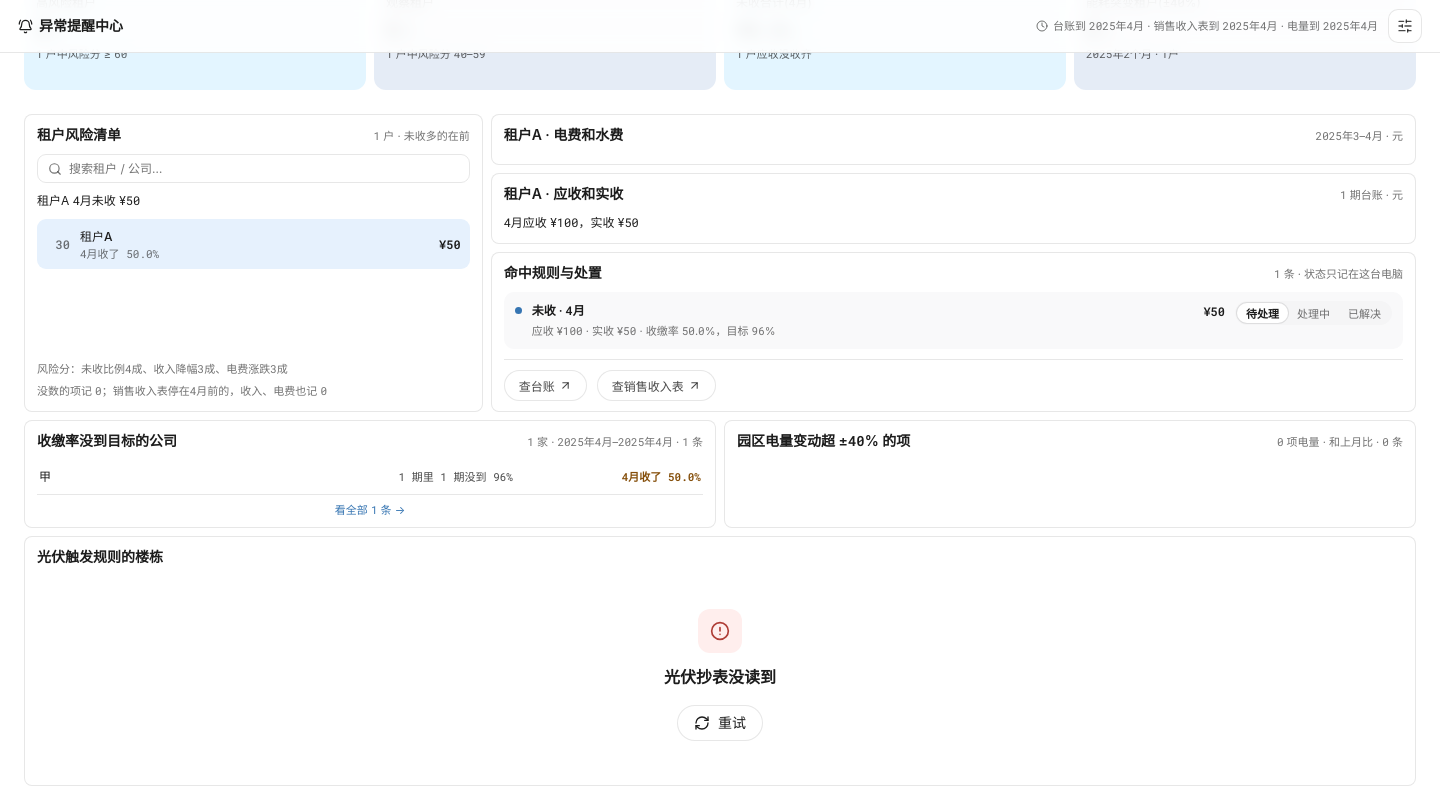
Test case: 异常提醒中心 · 光伏触发规则的楼栋 › ❗光伏没读到:只这张卡换成失败(租户清单照出),点重试回来
The image size is (1440, 804).
Expected: the button with class "mn-row" is shown, [37,219,470,269]
Expected: the element with class "av2-card" shows "光伏抄表没读到", [664,666,776,686]
Click the button "重试".
click(720, 722)  # box [677,704,763,740]
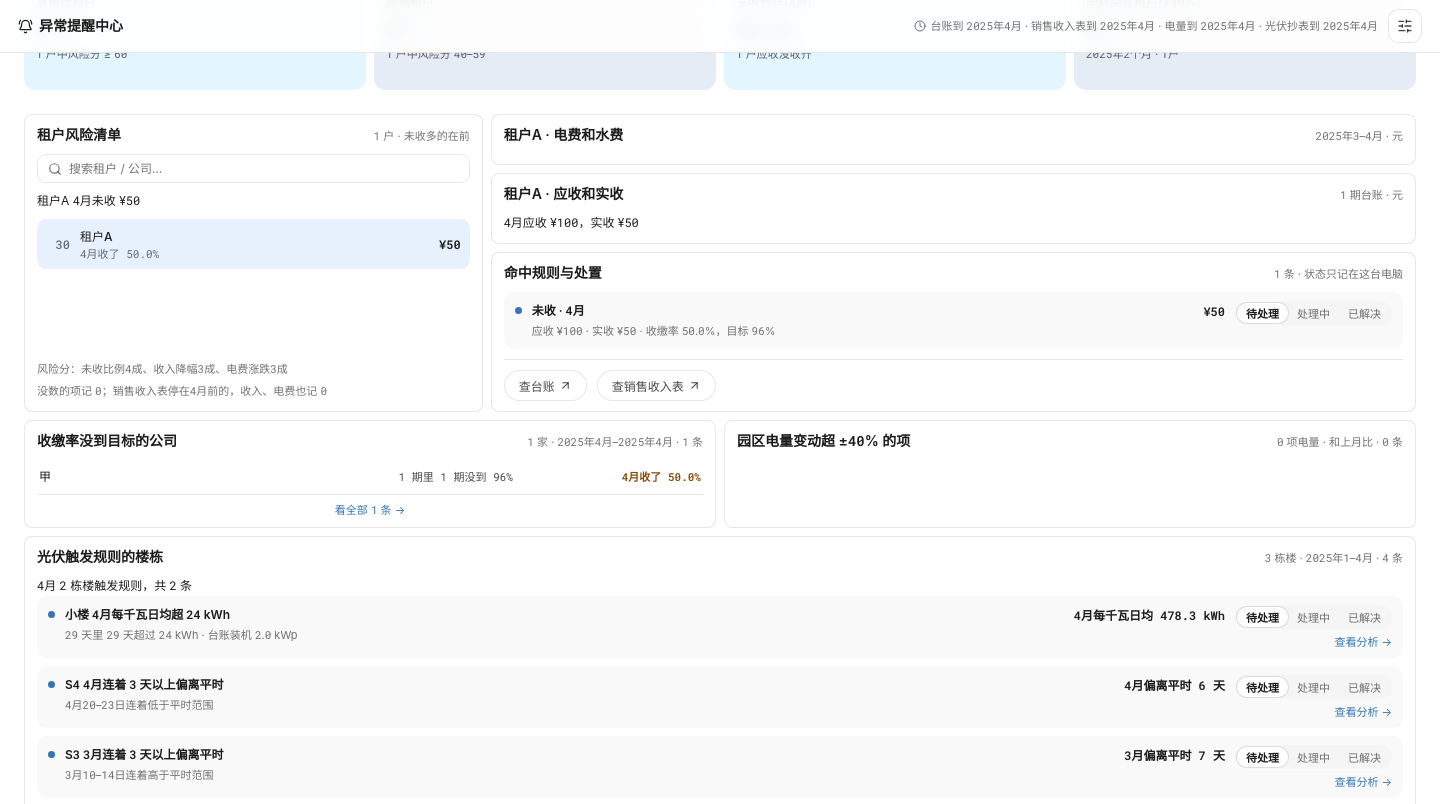
Expected: the element with class "anx-asof-text" shows "光伏抄表到 2025年4月", [930,19,1378,33]
